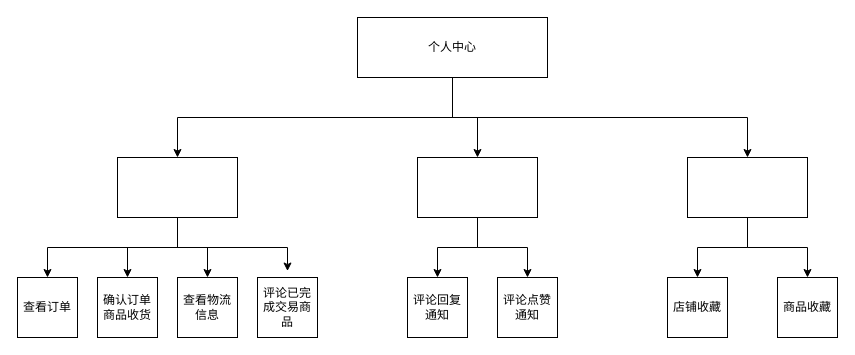
Image size: 855x355. Some labels were removed from this diagram. Here are the shapes that lost their labels. From the top down, the centre of each, then its label:
At point (177, 187): "订单管理".
At point (477, 187): "通知管理".
At point (747, 187): "收藏管理".
